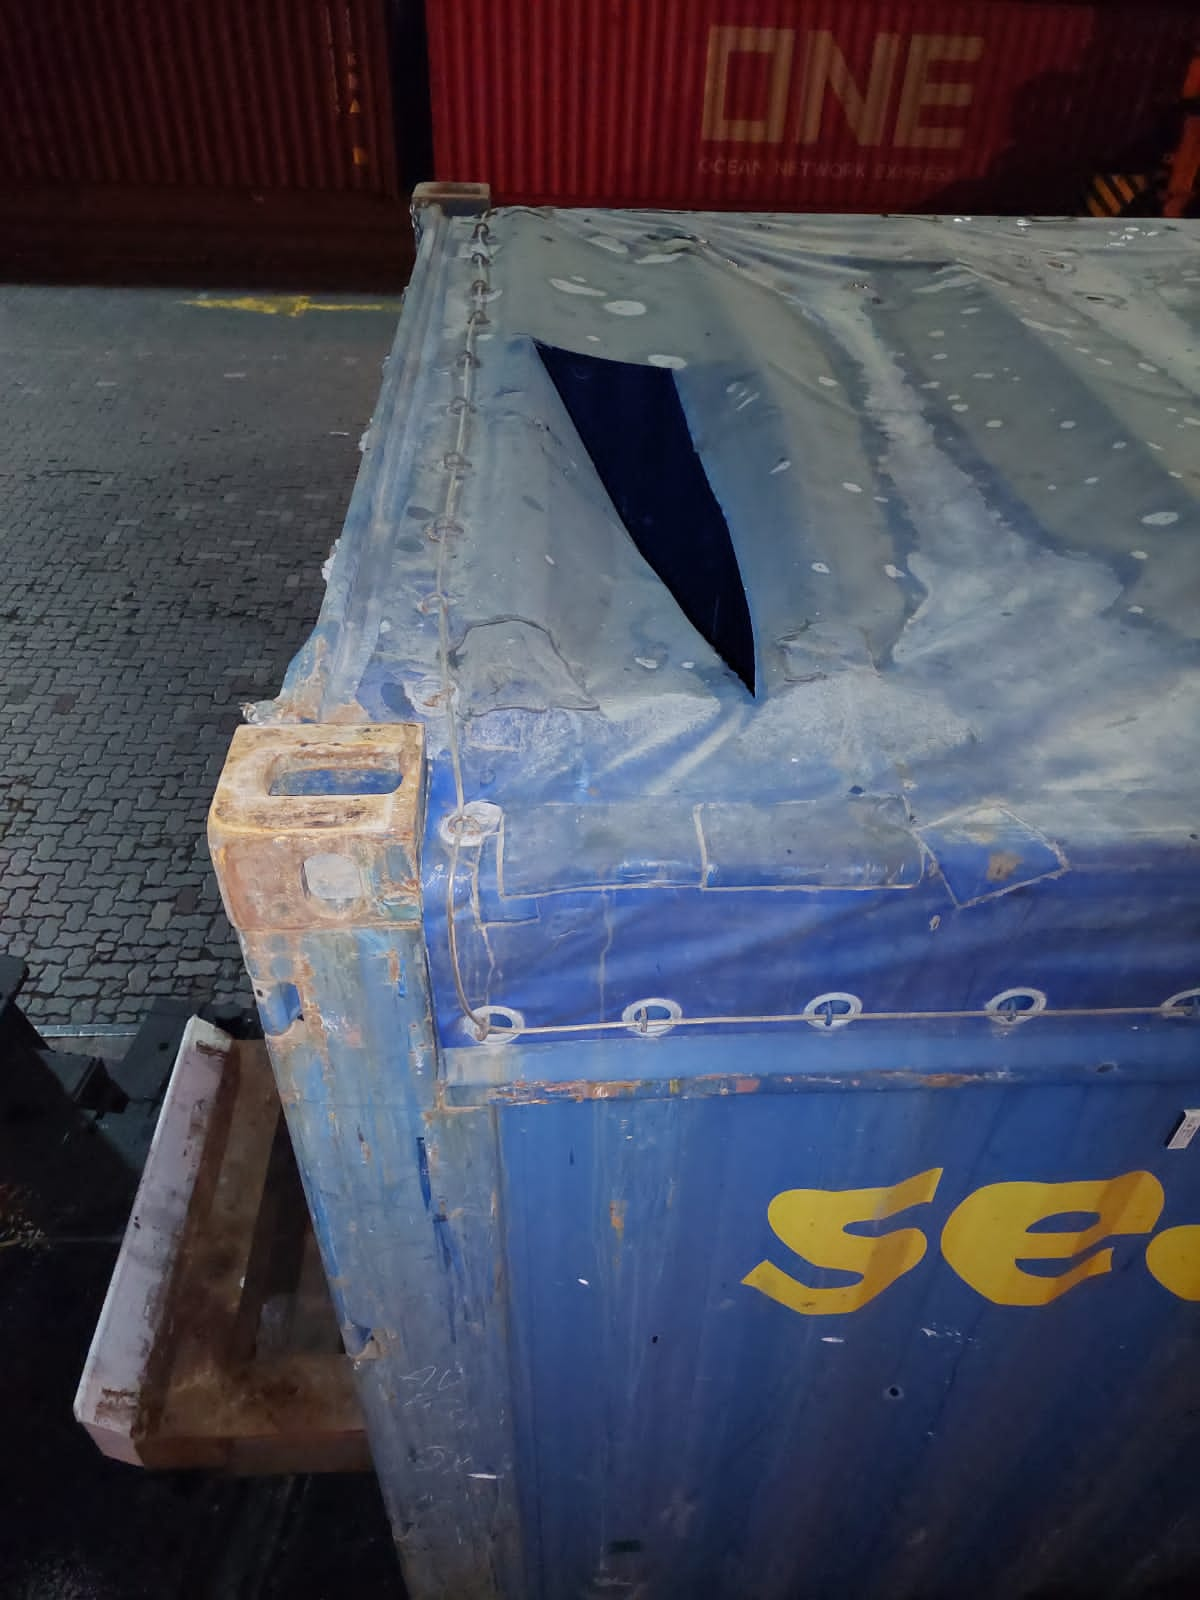cut: (495, 299, 794, 752)
